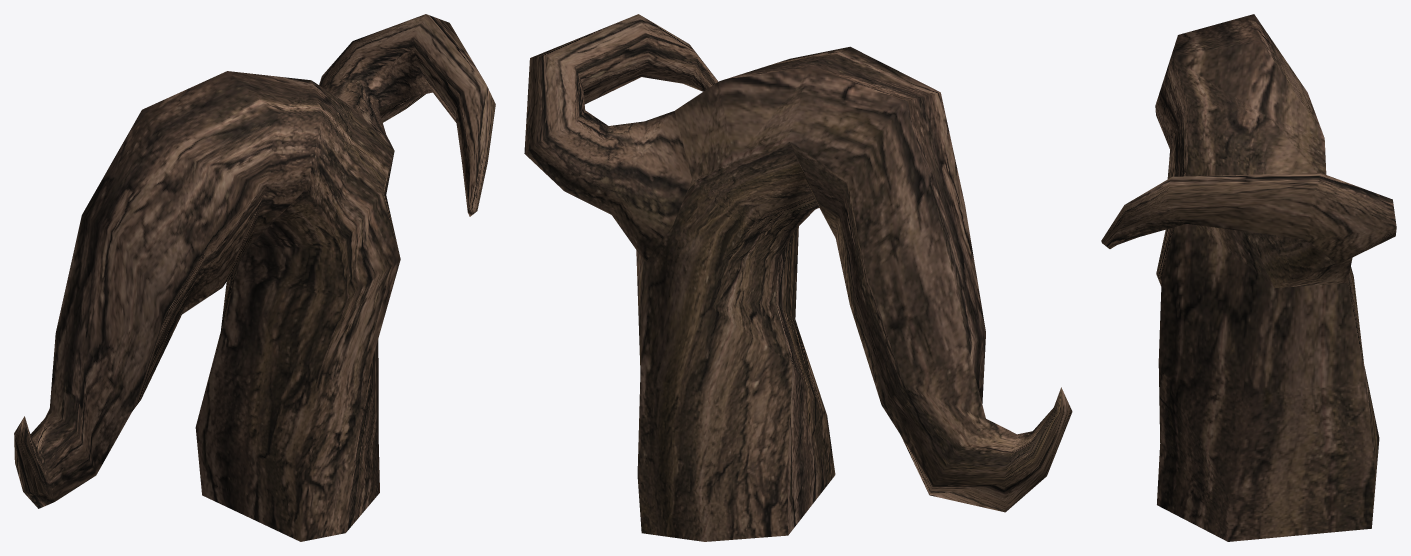
Rendered from obstacle_tree2.fbx.
The picture shows the model from 3 angles, left to right: view 1: azimuth 30°, elevation 25°; view 2: azimuth 150°, elevation 25°; view 3: azimuth 270°, elevation 25°; orthographic projection. The views are drawn at different scales.
Visible parts, largest first — view 1: tree_2Tiles; view 2: tree_2Tiles; view 3: tree_2Tiles.
Boxes of the visible parts, left/top/right/bottom form: tree_2Tiles: left=14, top=14, right=495, bottom=541; tree_2Tiles: left=524, top=14, right=1072, bottom=541; tree_2Tiles: left=1101, top=14, right=1396, bottom=541.
Bounding box in the file's own units: 190 × 166 × 102.
